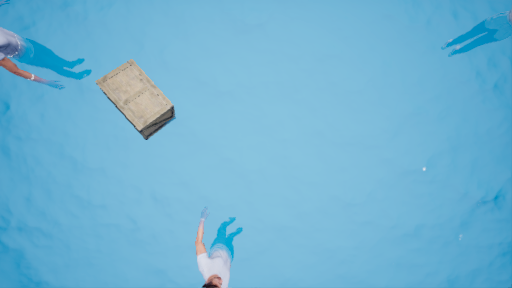person: (1, 21, 89, 95), (179, 199, 248, 288)
